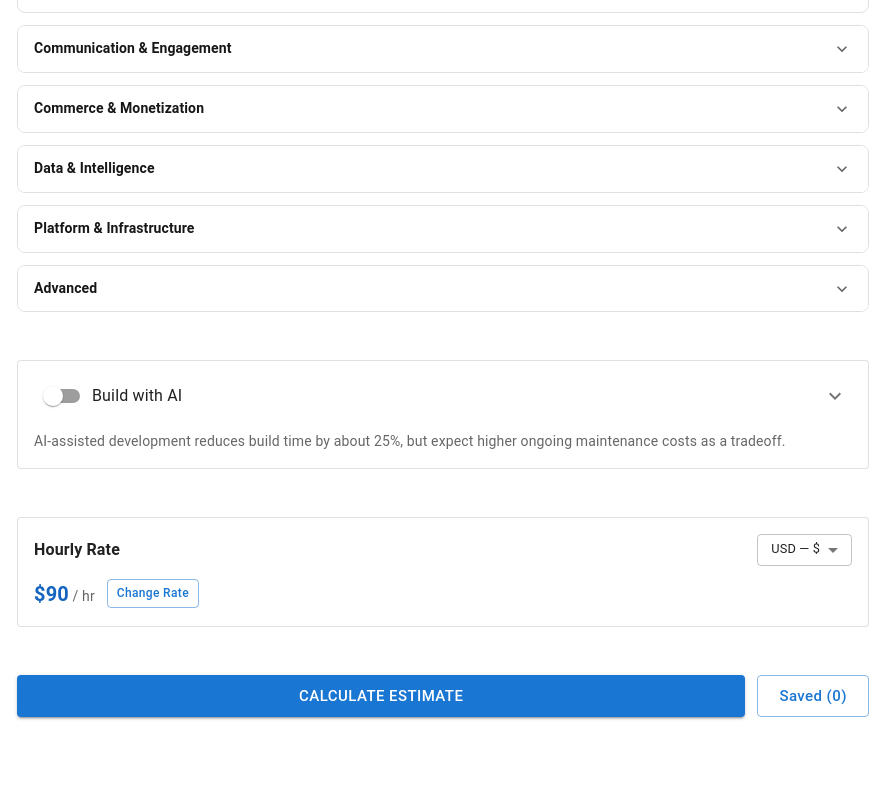
Test: CostEstimator › handleSaveEstimate (lines 205-225) › calculating then saving an estimate stores it in the drawer
The width and height of the screenshot is (886, 797).
(page scrolled)
Click the button "Calculate Estimate". click: [381, 696]
box: left=17, top=674, right=745, bottom=717
(page scrolled)
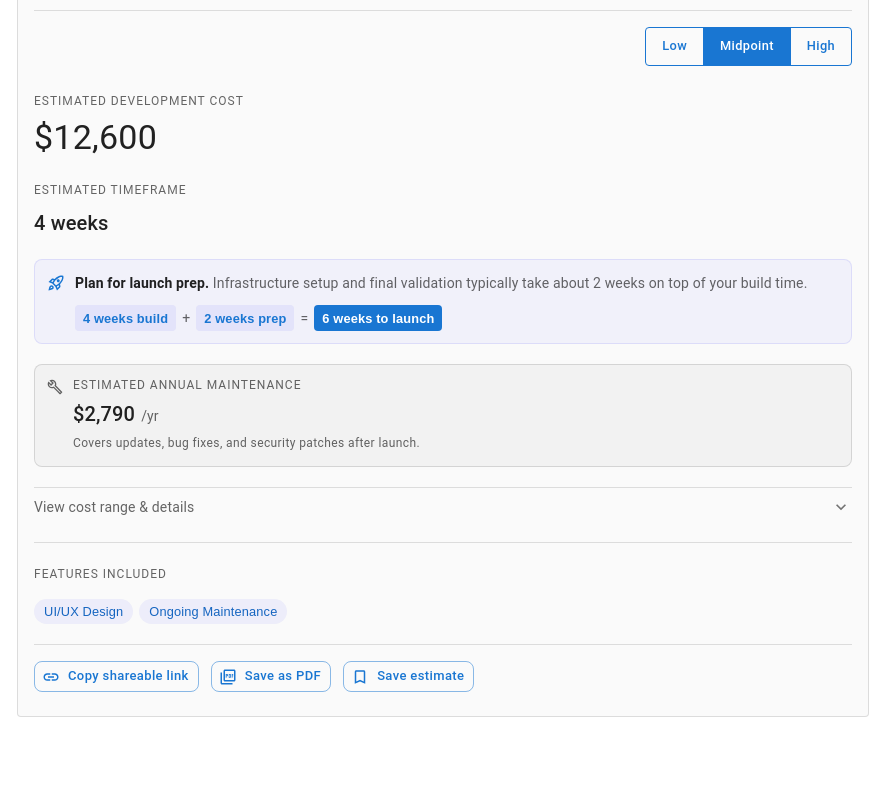
// Open save input
Click the button "Save estimate". click: [409, 677]
box: left=343, top=661, right=474, bottom=692
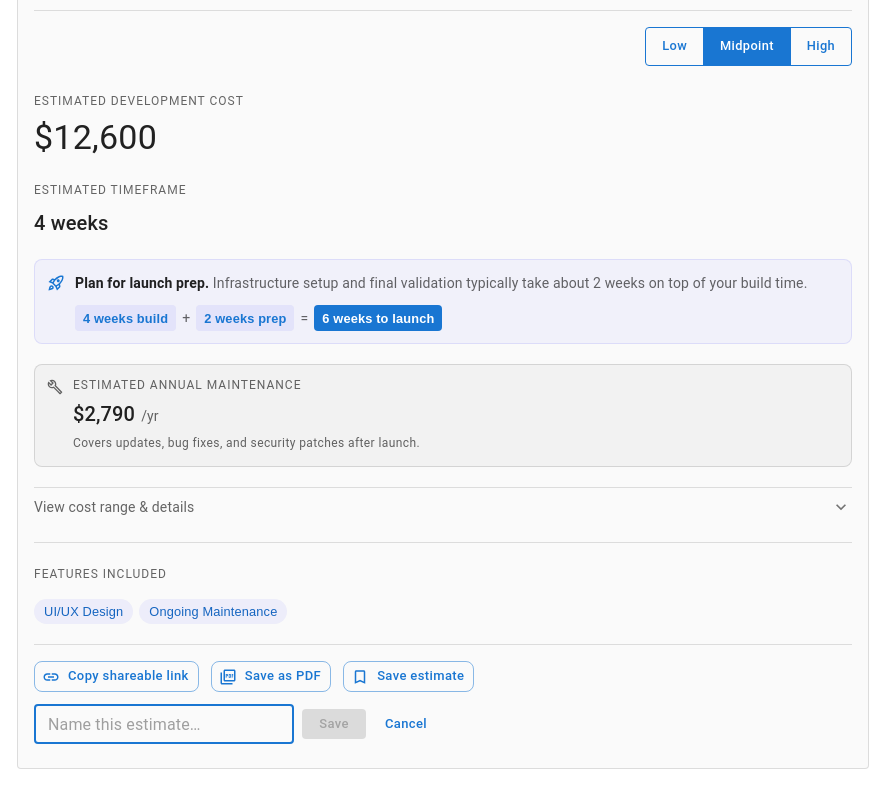
Type "Test Save" into the field with placeholder "Name this estimate…". click: [164, 724]
box: left=34, top=704, right=294, bottom=744
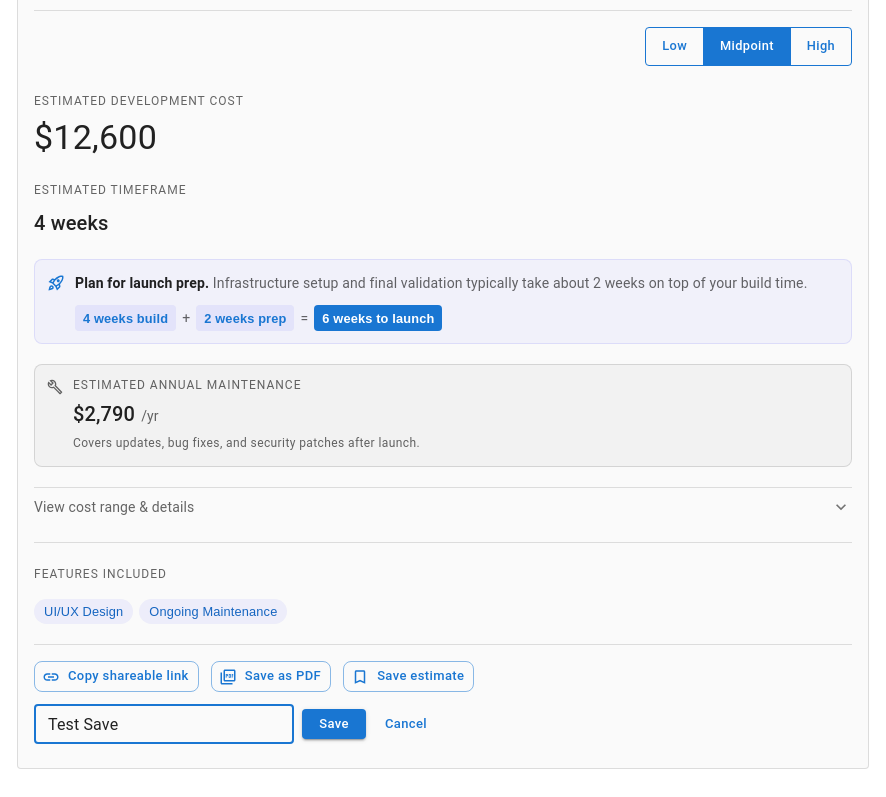
Click the button "Save". click: [334, 724]
box: left=302, top=709, right=366, bottom=740
(page scrolled)
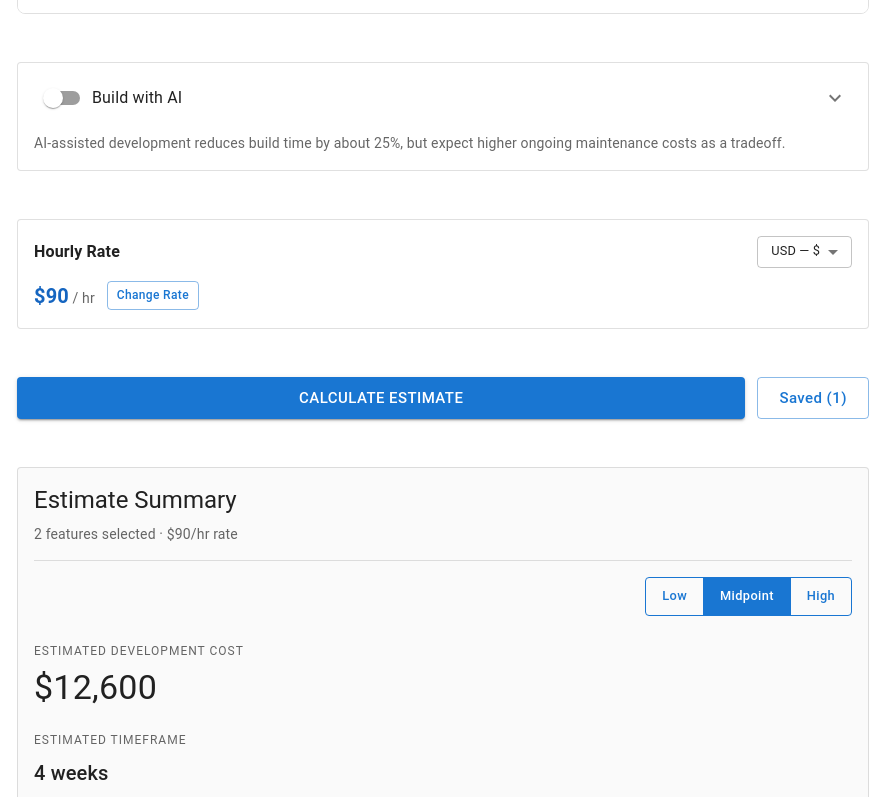
Expected: the button with test id "saved-btn" reads "Saved (1)", left=757, top=376, right=869, bottom=419
